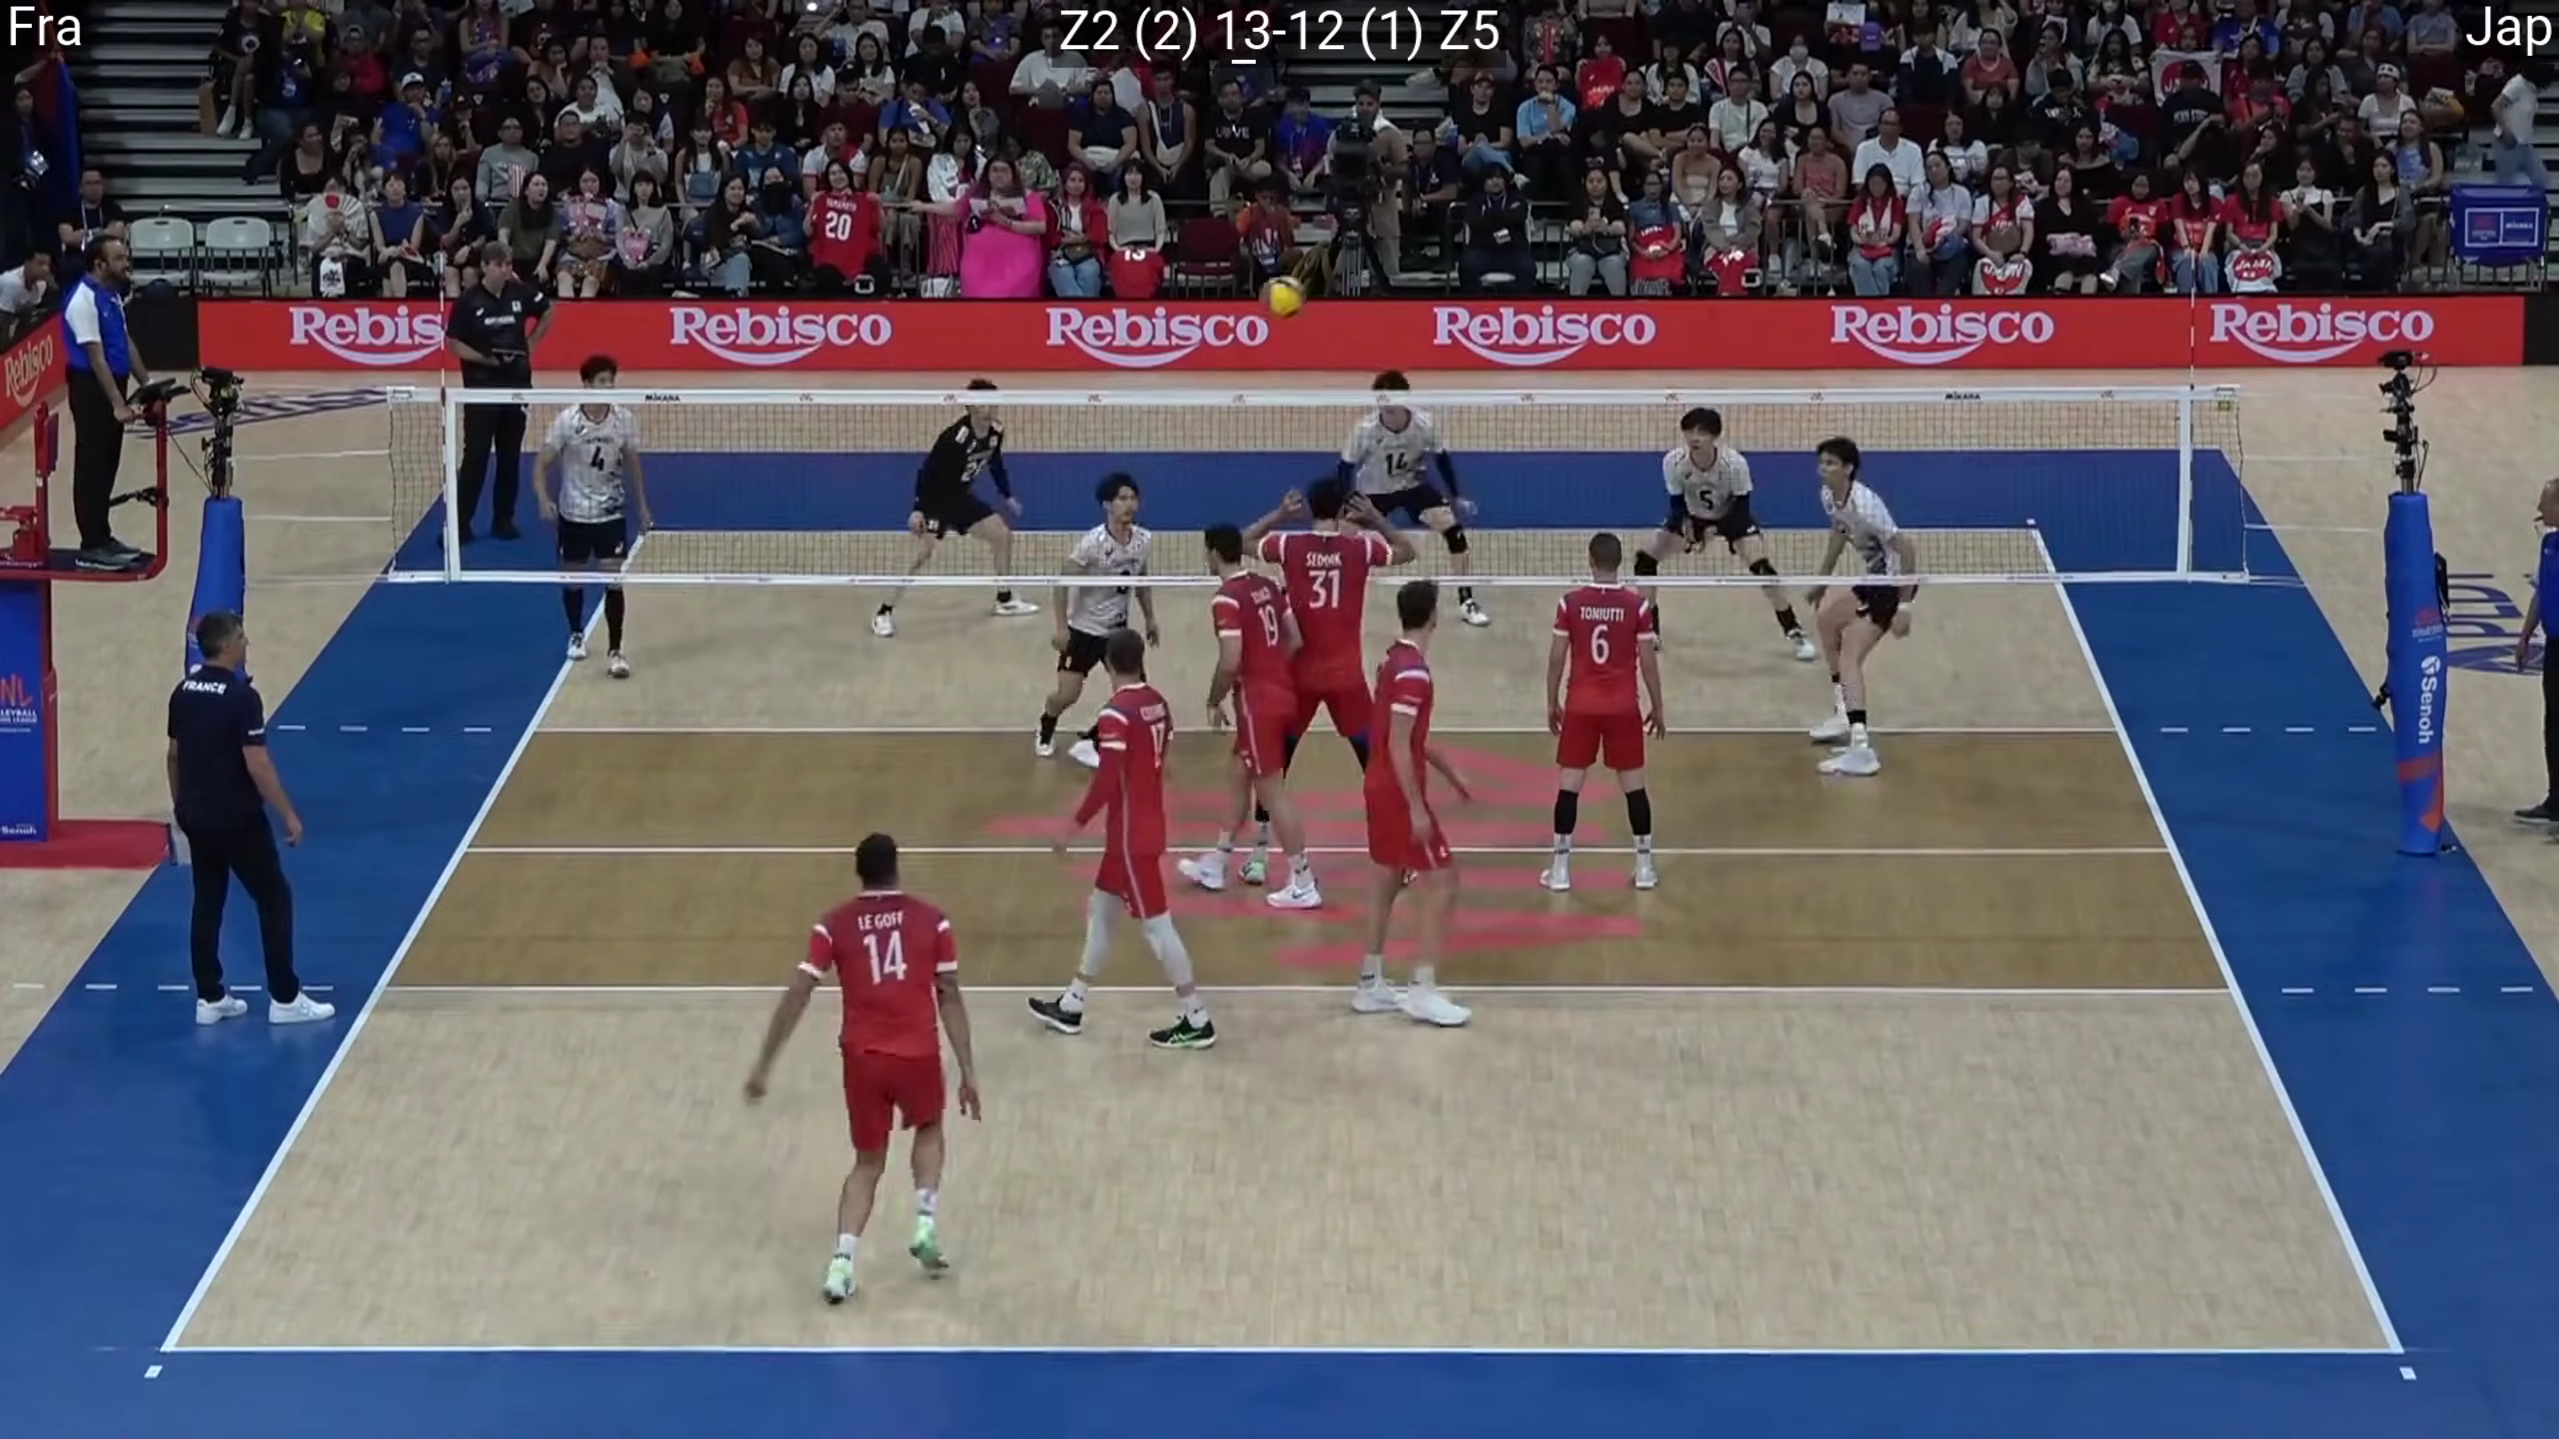Ball: (1257, 274, 1309, 320)
